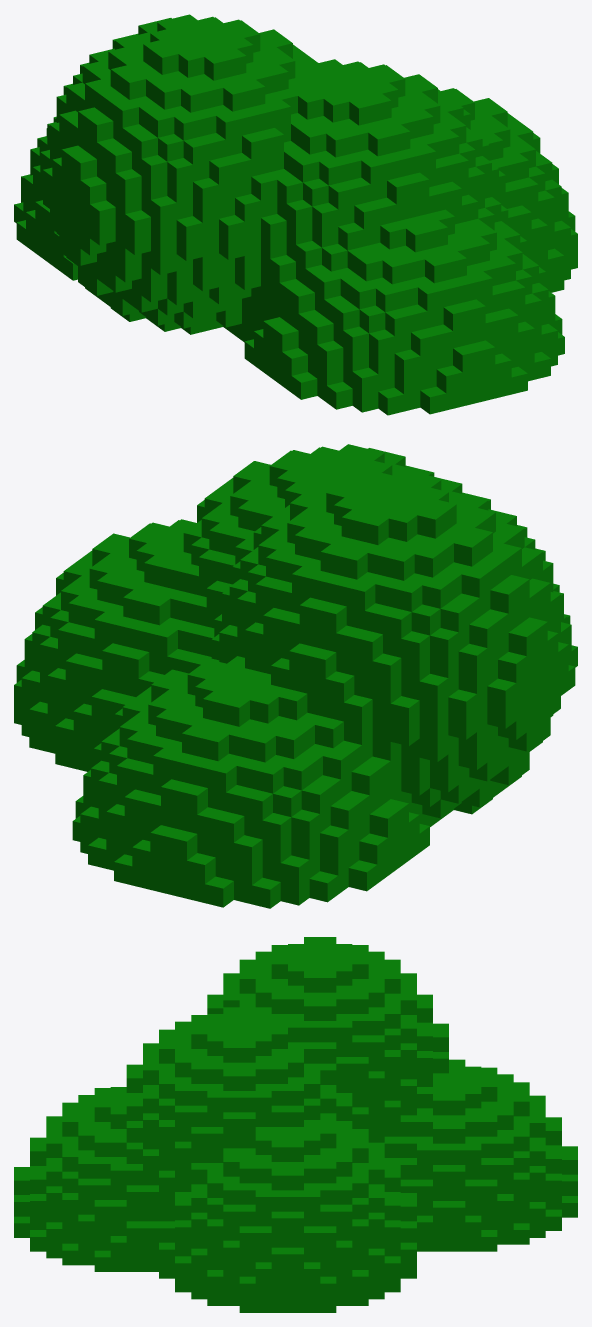
File: bush.obj
3 views of the same model, one above another, from view 1: azimuth 30°, elevation 25°; view 2: azimuth 150°, elevation 25°; view 3: azimuth 270°, elevation 25° (orthographic). The views are drawn at different scales.
Bounding box in the file's own units: 2.8 × 1.5 × 3.5.
